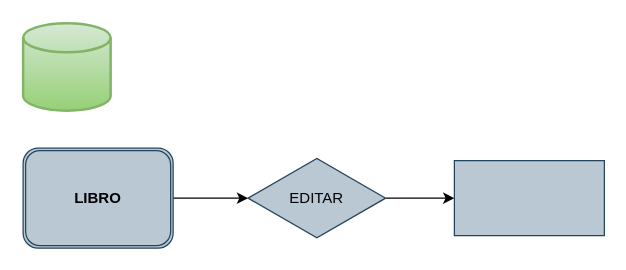
The diagram is 626 pixels wide and 270 high, and some of its shapes have lost their labels. The centre of each missing label's shape, as x and y in pixels:
EDICION: the point at 528,197
MongoDB: the point at 66,66
